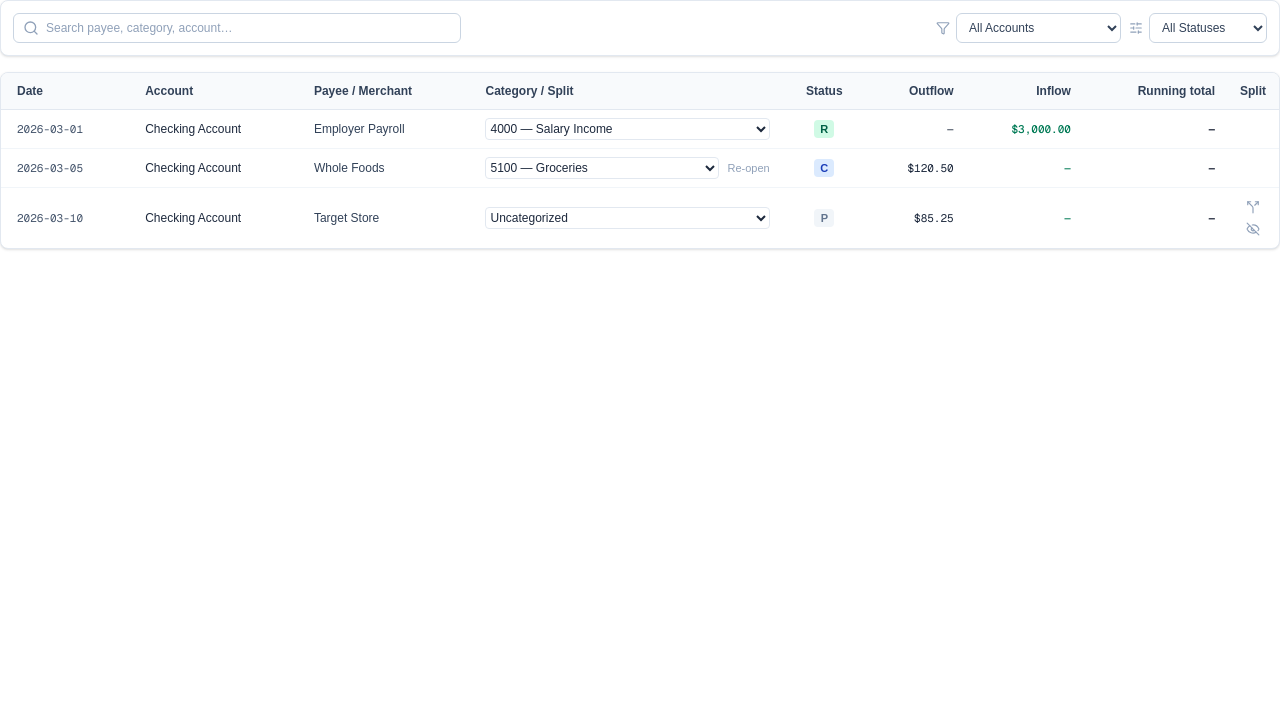
Test: TransactionRegister › offers Split only on uncategorized transactions, and opens the modal
Click the button named "split target store" at point(1253, 207), box [1242,196,1264,218]
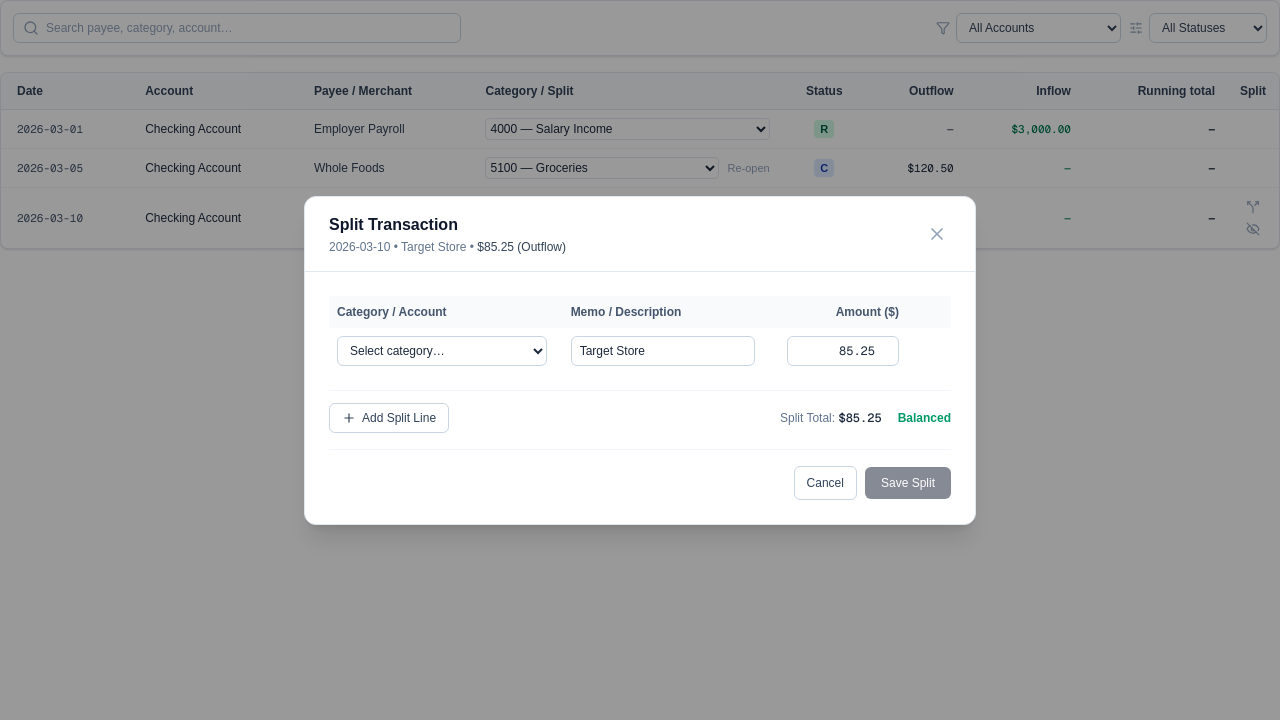
Check: the text "2026-03-10 • Target Store • $85.25 (Outflow)" is shown, box [329,238,566,254]
